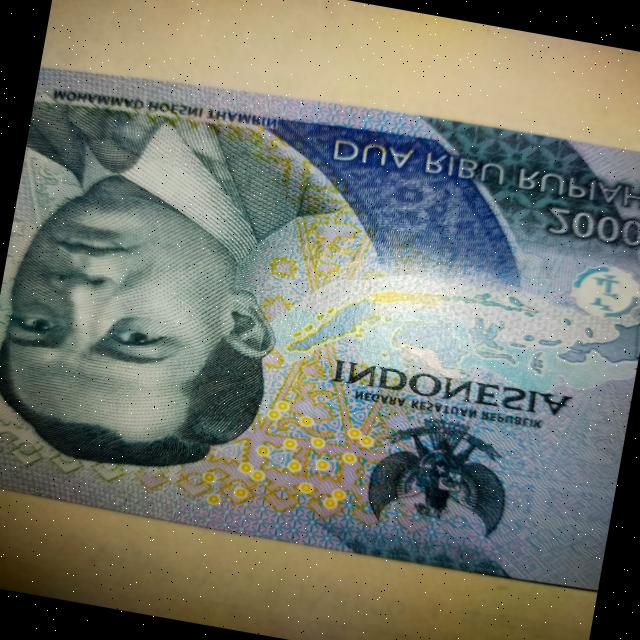2K: (0, 32, 640, 605)
